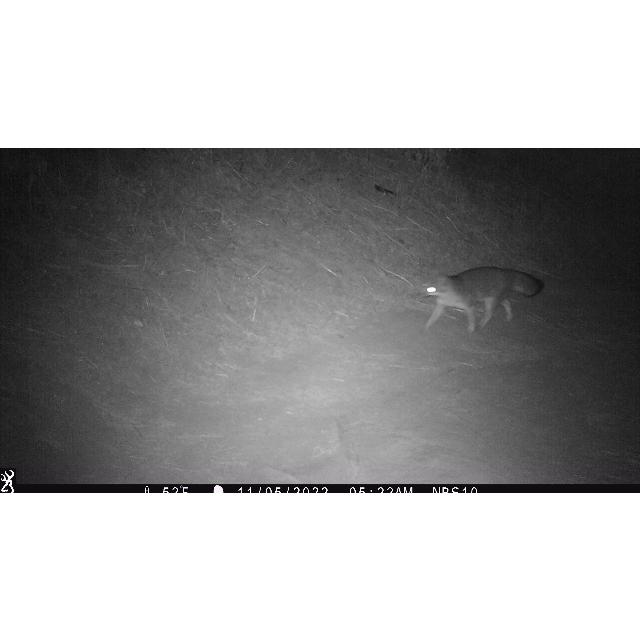animals: (417, 265, 543, 331)
